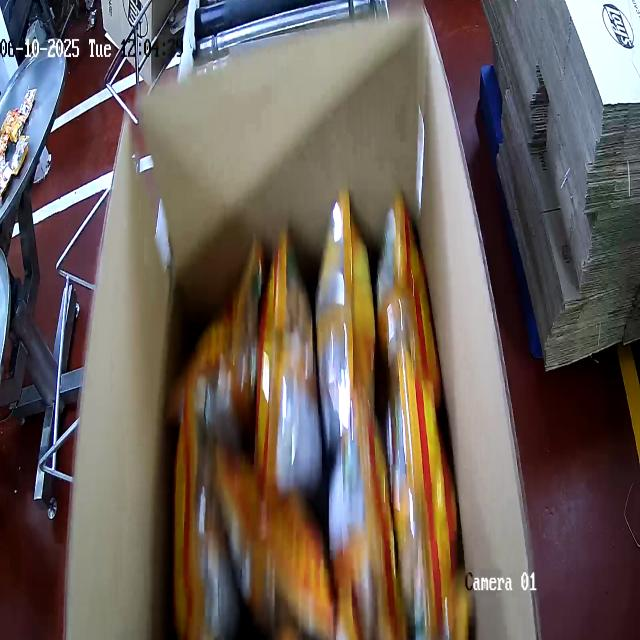FRENCH_CHEESE: (169, 212, 458, 640)
